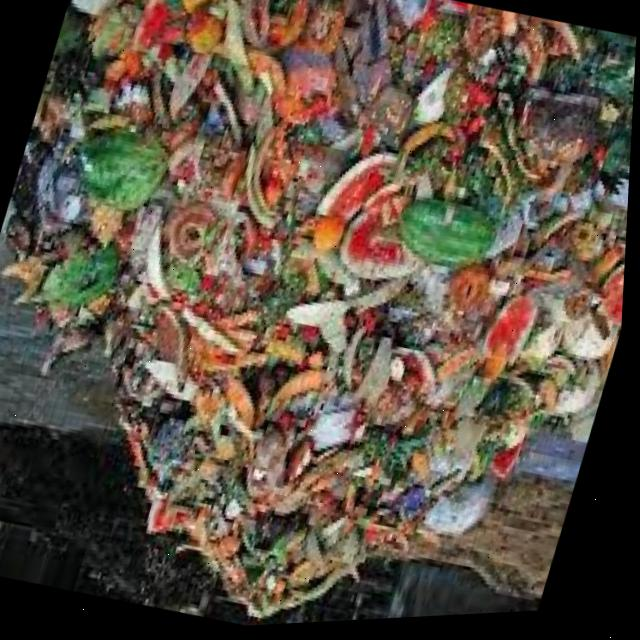Wet: (0, 0, 640, 640), (50, 0, 637, 637), (0, 0, 640, 466)
